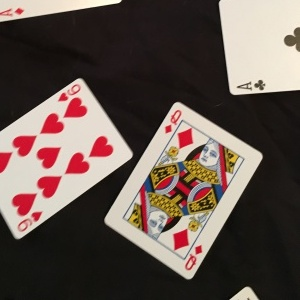card: (109, 98, 265, 278)
